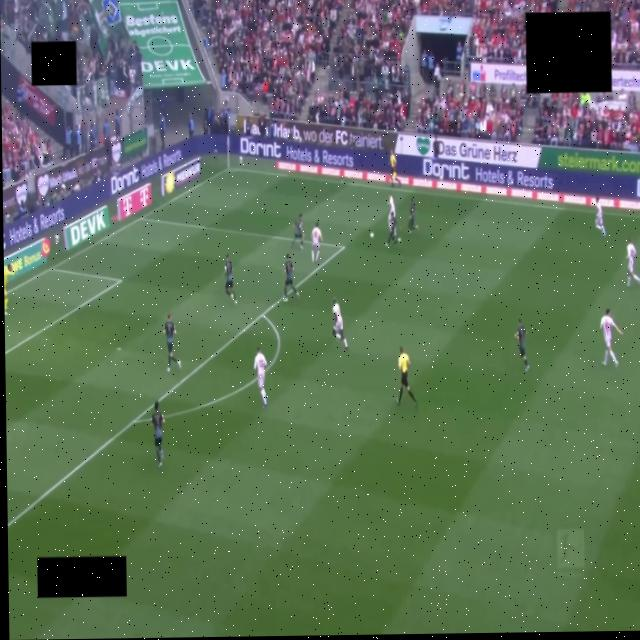ball: (371, 233, 374, 238)
player: (600, 309, 622, 366), (163, 313, 180, 372), (151, 402, 164, 468), (254, 348, 267, 407), (515, 318, 529, 371), (283, 254, 298, 301), (333, 299, 347, 349), (225, 254, 237, 304), (627, 239, 639, 286), (386, 210, 400, 246), (4, 264, 13, 315), (291, 214, 304, 248), (312, 222, 323, 262), (595, 198, 606, 237), (408, 199, 417, 233), (388, 195, 395, 218)
referee: (397, 346, 417, 407)
